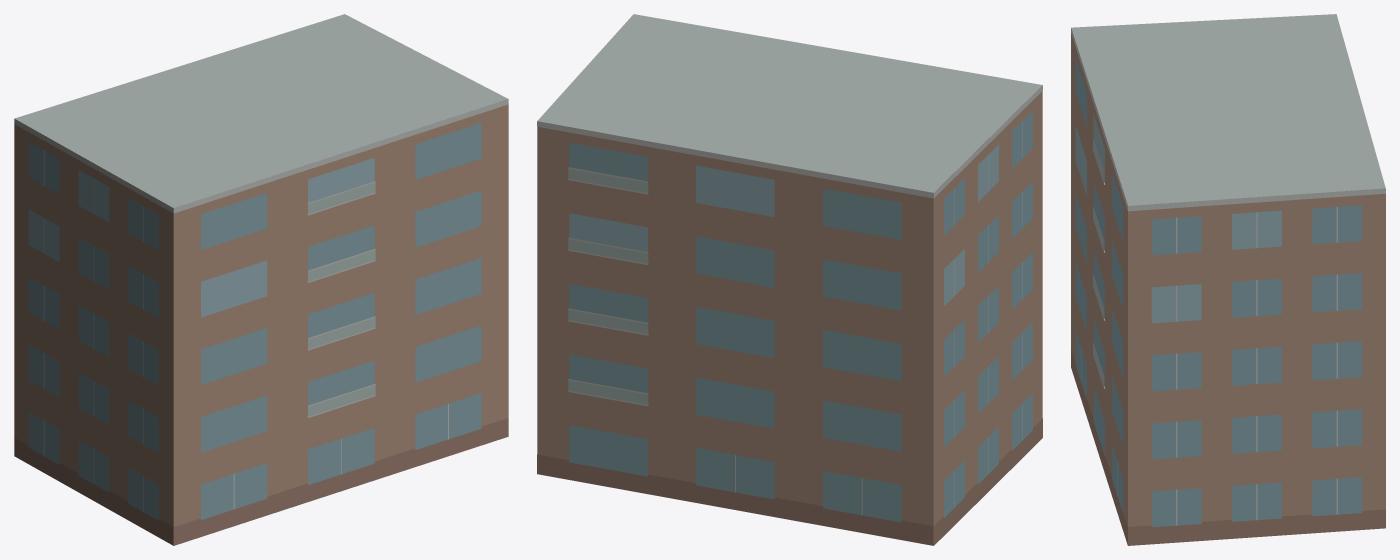
Rendered from survey-upis-32531887.glb.
3 renders of one model, left to right at view 1: azimuth 30°, elevation 25°; view 2: azimuth 150°, elevation 25°; view 3: azimuth 270°, elevation 25°, orthographic. The views are drawn at different scales.
Parts seen in each view (by area): view 1: survey-upis-32531887.tmp; view 2: survey-upis-32531887.tmp; view 3: survey-upis-32531887.tmp.
Boxes of the visible parts, <box> form: survey-upis-32531887.tmp: <box>14,14,508,545</box>; survey-upis-32531887.tmp: <box>537,14,1042,545</box>; survey-upis-32531887.tmp: <box>1071,14,1385,545</box>.
Size of the model in its own units: 18.66 by 15.4 by 12.93.
